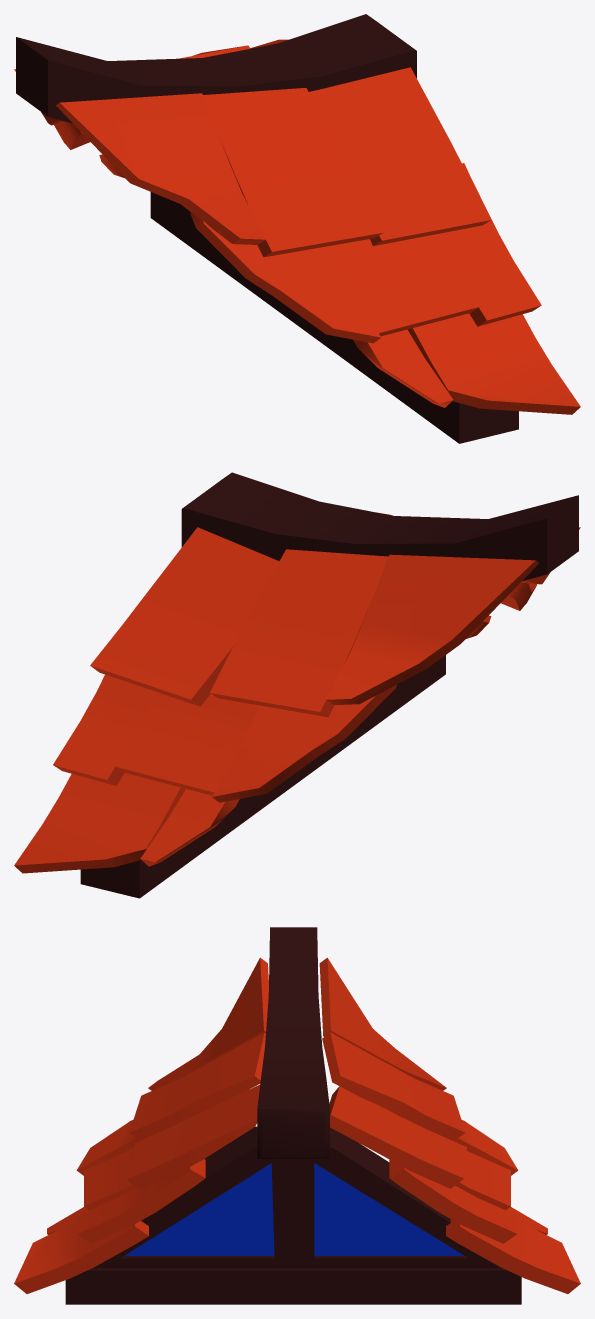
The model's file is House_02_roof_window.fbx.
The picture shows the model from 3 angles, top to bottom: view 1: azimuth 30°, elevation 25°; view 2: azimuth 150°, elevation 25°; view 3: azimuth 270°, elevation 25°; orthographic projection. The views are drawn at different scales.
Visible parts, largest first — view 1: House_02_roof_window; view 2: House_02_roof_window; view 3: House_02_roof_window.
Part boxes in pixels (x1=…): House_02_roof_window: x1=14, y1=14, x2=580, y2=443; House_02_roof_window: x1=14, y1=472, x2=580, y2=898; House_02_roof_window: x1=14, y1=927, x2=580, y2=1304.
Size of the model in its own units: 162 by 148 by 295.
